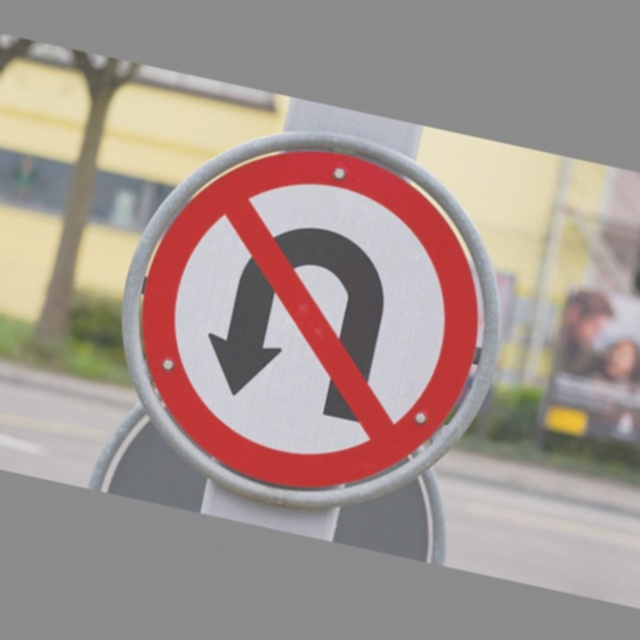U_Turn_Prohibited: (92, 103, 534, 543)
